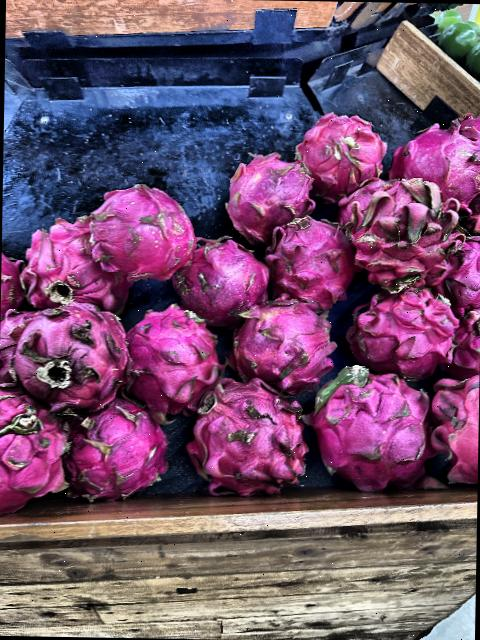buah-naga-matang: (313, 366, 441, 492), (332, 175, 472, 289), (192, 376, 310, 498), (0, 302, 132, 400), (123, 306, 224, 416), (80, 180, 192, 276), (17, 212, 120, 310), (229, 300, 338, 388), (64, 408, 170, 496), (224, 143, 320, 238), (356, 282, 452, 374), (0, 392, 70, 517), (260, 219, 354, 305), (394, 115, 480, 208), (169, 237, 272, 310), (294, 110, 384, 183)
